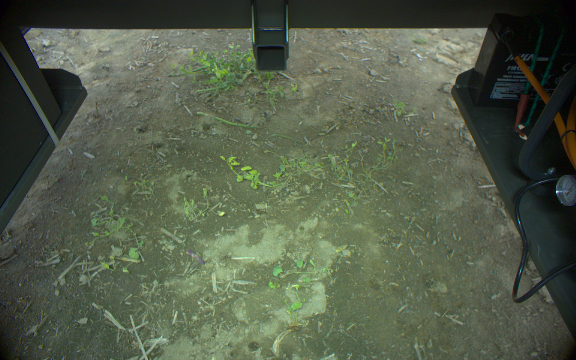aspa: (195, 110, 262, 131)
